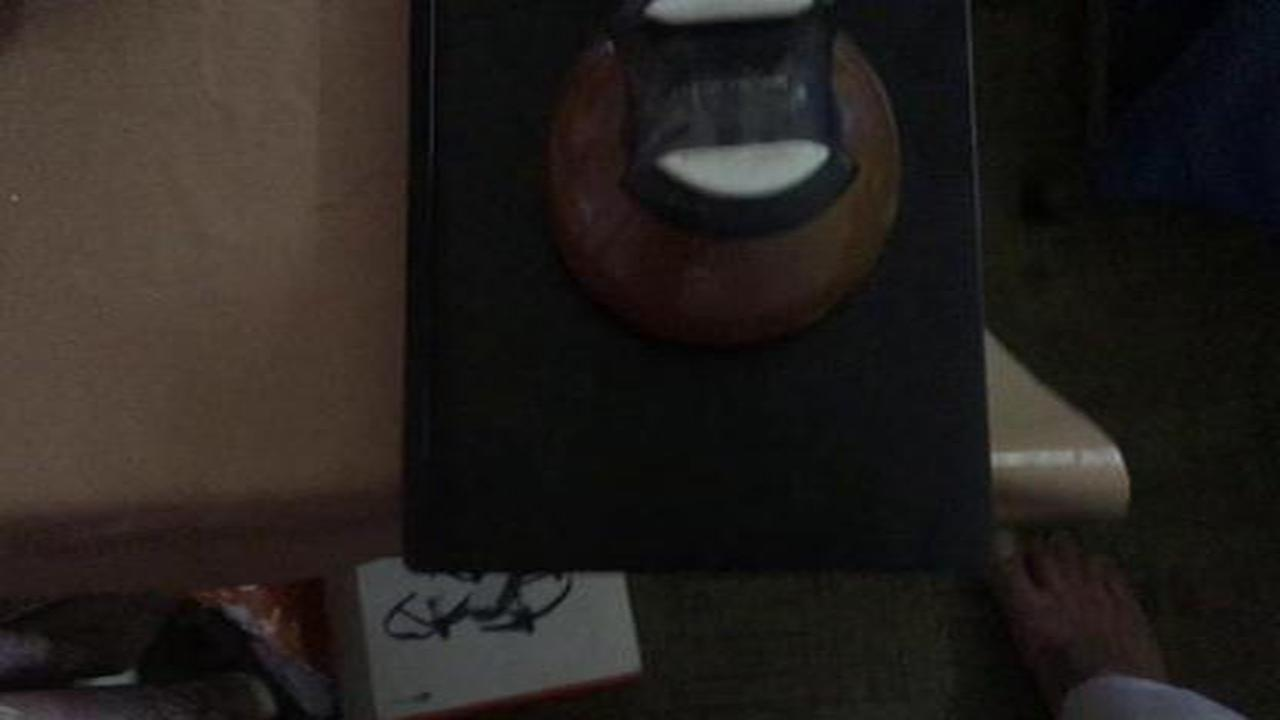insulator_pin: (524, 9, 924, 364)
